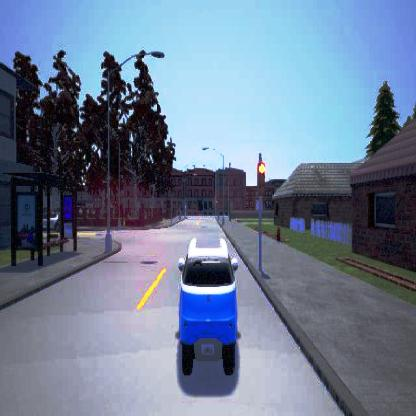vehicle: (178, 236, 238, 374)
